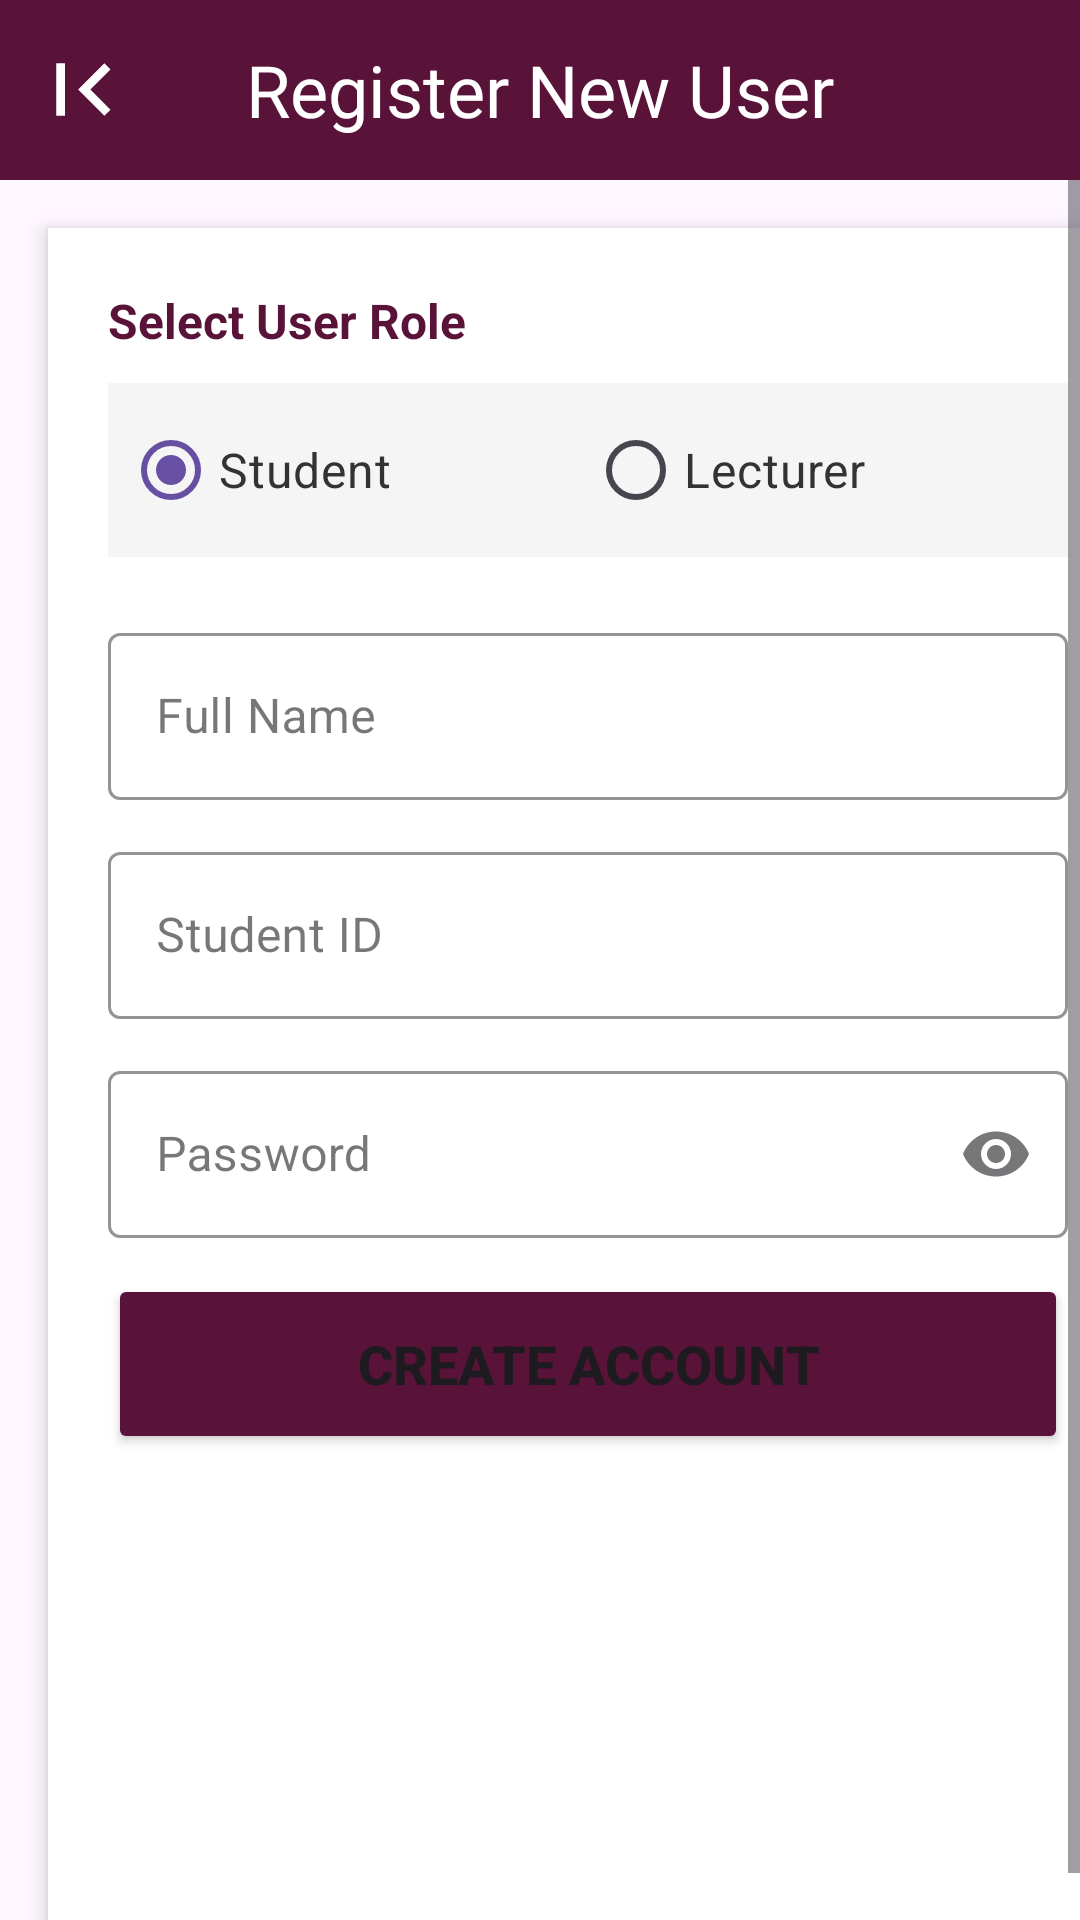

Named icons in this screenshot (1080×1920) and their bounding boxes, {"left": x1, "top": y1, "right": x2, "bottom": y2}:
arrow back: {"left": 56, "top": 63, "right": 111, "bottom": 116}
